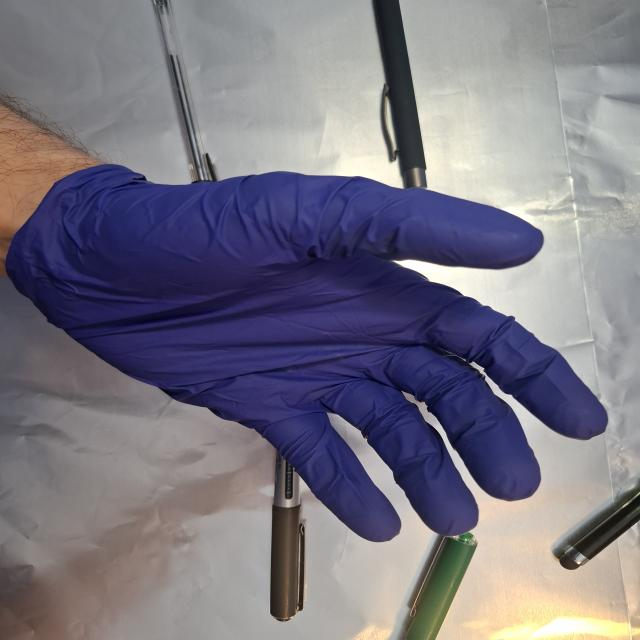glove_on: (16, 162, 614, 544)
